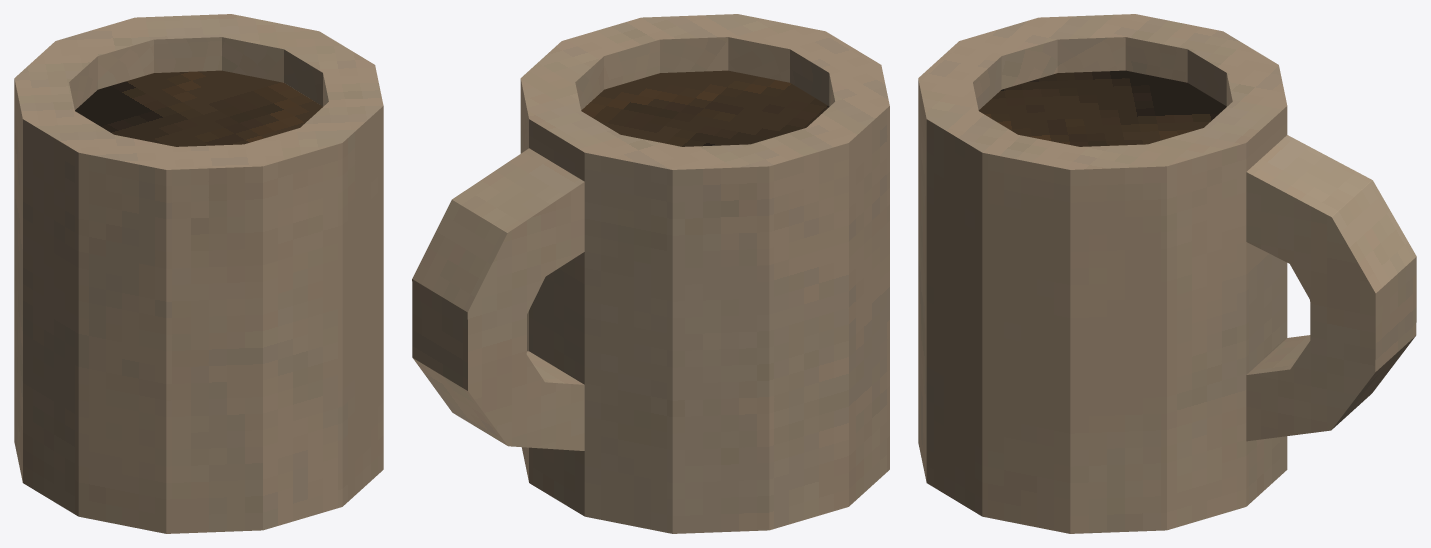
Rendered from kubek.fbx.
3 renders of one model, left to right at view 1: azimuth 30°, elevation 25°; view 2: azimuth 150°, elevation 25°; view 3: azimuth 270°, elevation 25°, orthographic.
Parts seen in each view (by area): view 1: Kubek; view 2: Kubek; view 3: Kubek.
Boxes of the visible parts, x1,y1,x2,y2 form: Kubek: (14, 14, 383, 533); Kubek: (412, 14, 889, 533); Kubek: (918, 14, 1416, 533).
Bounding box in the file's own units: 27.57 × 30 × 37.24.
Materials: 1 (1 with a texture image).
